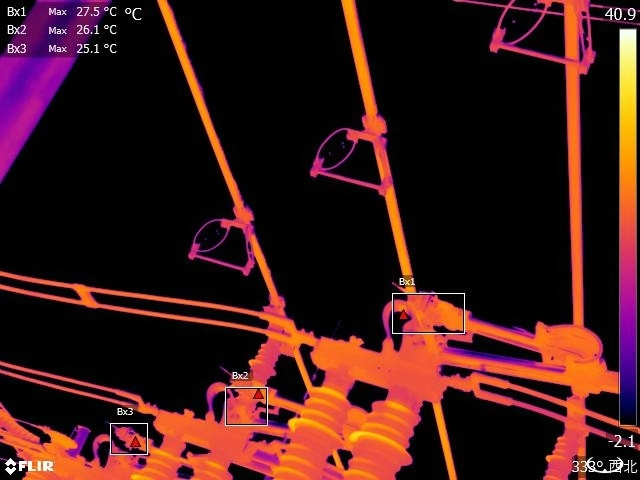post insulator: (262, 386, 353, 480), (339, 386, 421, 480), (124, 440, 176, 480), (544, 424, 581, 480), (245, 338, 280, 382), (177, 457, 234, 480)
switch: (393, 269, 606, 412)
